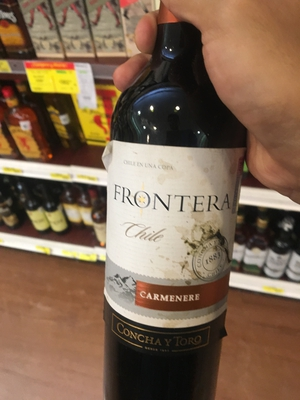frontera carmenere: (104, 24, 252, 400)
